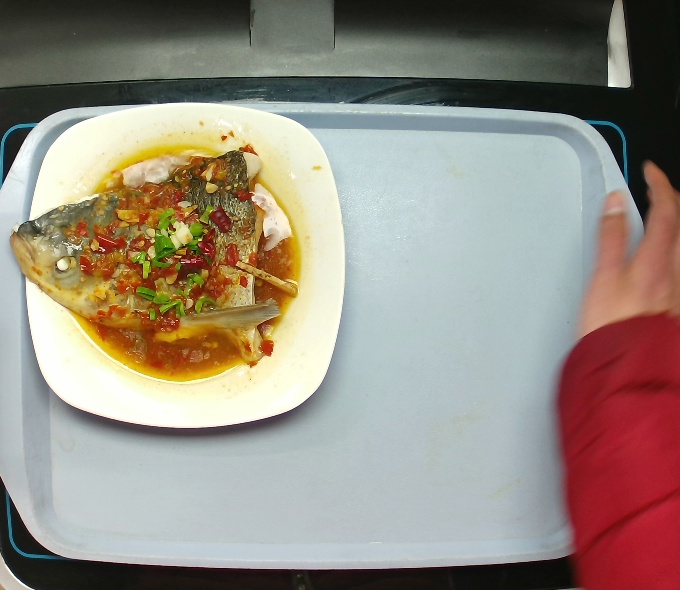wcq-DuoJiaoYuTou: (10, 117, 307, 384)
